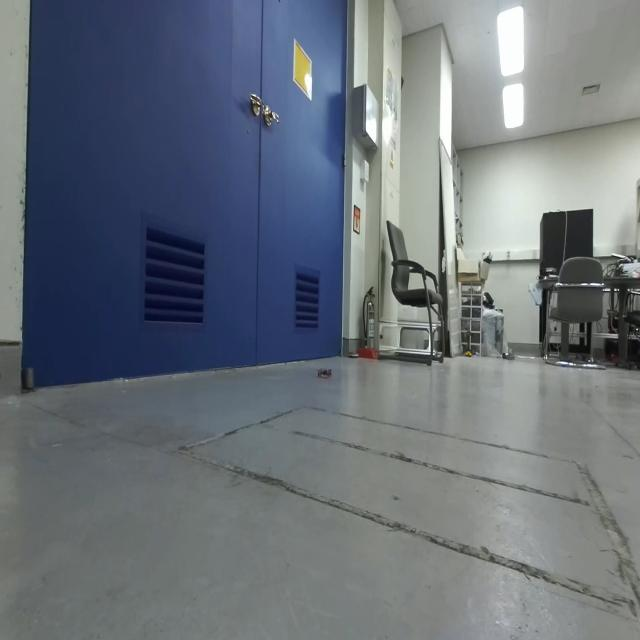crazyflie: (315, 362, 335, 384)
